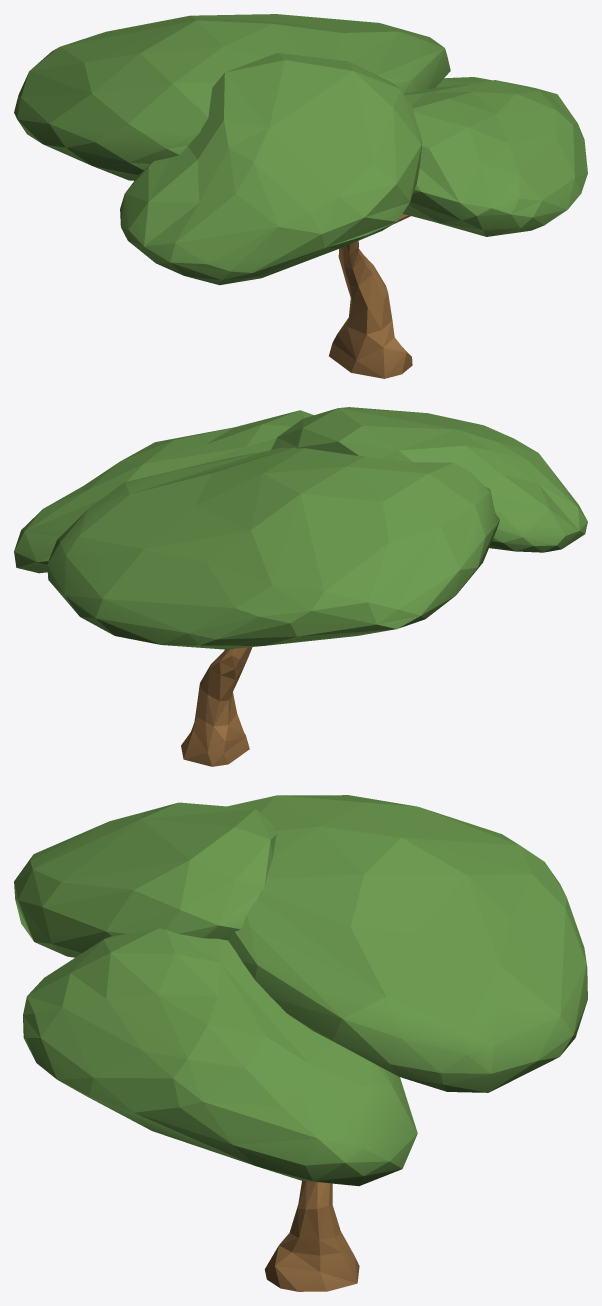
Rendered from JungleTree_Small_A.fbx.
The picture shows the model from 3 angles, top to bottom: view 1: azimuth 30°, elevation 25°; view 2: azimuth 150°, elevation 25°; view 3: azimuth 270°, elevation 25°; orthographic projection. The views are drawn at different scales.
Visible parts, largest first — view 1: JungleTree_Small_A; view 2: JungleTree_Small_A; view 3: JungleTree_Small_A.
Boxes of the visible parts, left/top/right/bottom form: JungleTree_Small_A: left=14, top=14, right=587, bottom=378; JungleTree_Small_A: left=14, top=407, right=587, bottom=766; JungleTree_Small_A: left=14, top=795, right=587, bottom=1291.
Bounding box in the file's own units: 7.98 × 5.32 × 7.21.
1 material, 1 textured.
